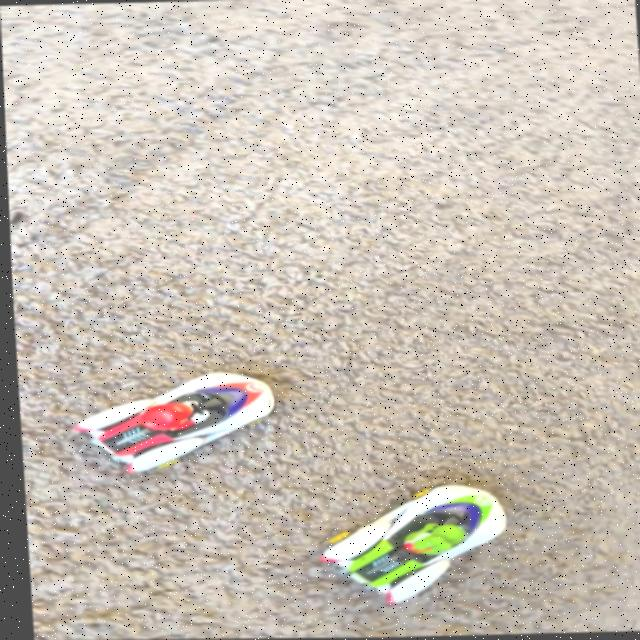mario: (56, 364, 292, 481)
yoshi: (287, 465, 532, 625)
